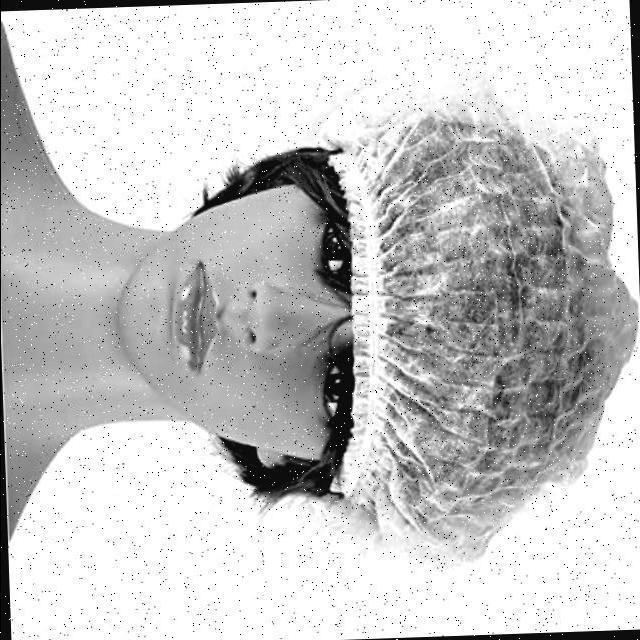gloves: (341, 97, 640, 547)
no_hairnet: (143, 244, 289, 406)
